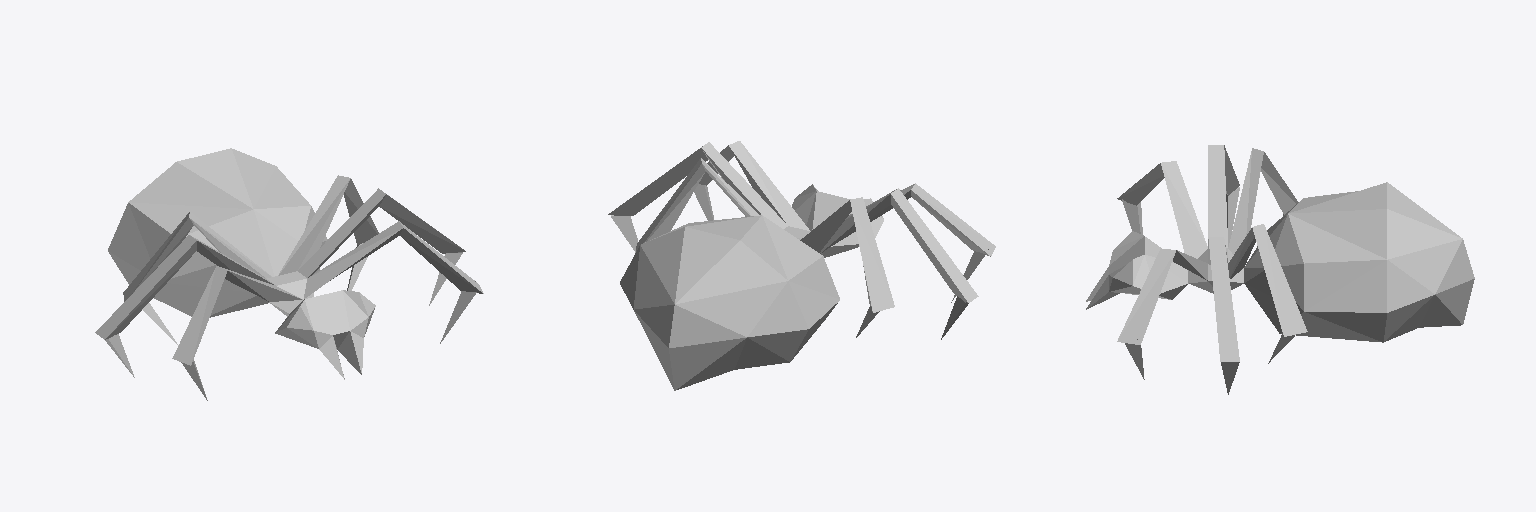
File: spider.obj
The picture shows the model from 3 angles: view 1: azimuth 30°, elevation 25°; view 2: azimuth 150°, elevation 25°; view 3: azimuth 270°, elevation 25°; orthographic projection.
Visible parts, largest first — view 1: ungrouped_1; view 2: ungrouped_1; view 3: ungrouped_1.
Boxes of the visible parts, x1=… form: ungrouped_1: x1=95, y1=148, x2=483, y2=400; ungrouped_1: x1=608, y1=141, x2=995, y2=390; ungrouped_1: x1=1086, y1=145, x2=1474, y2=394.
Size of the model in its own units: 9.45 by 3.42 by 8.82.